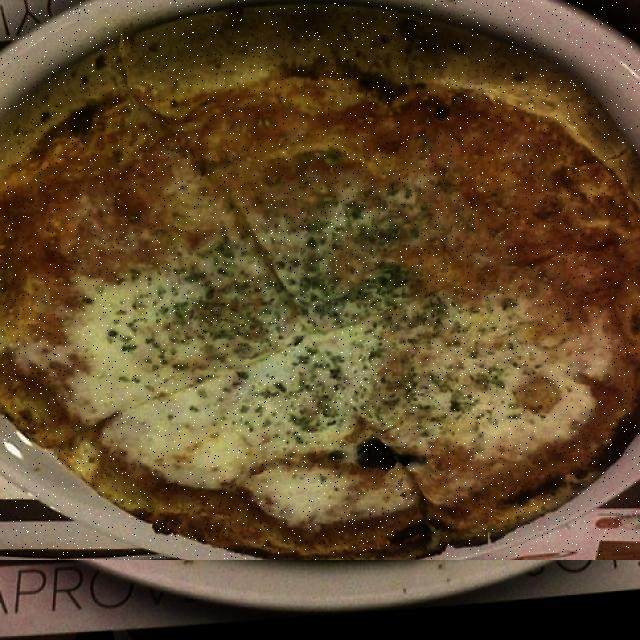Pizza: (0, 0, 640, 560)
